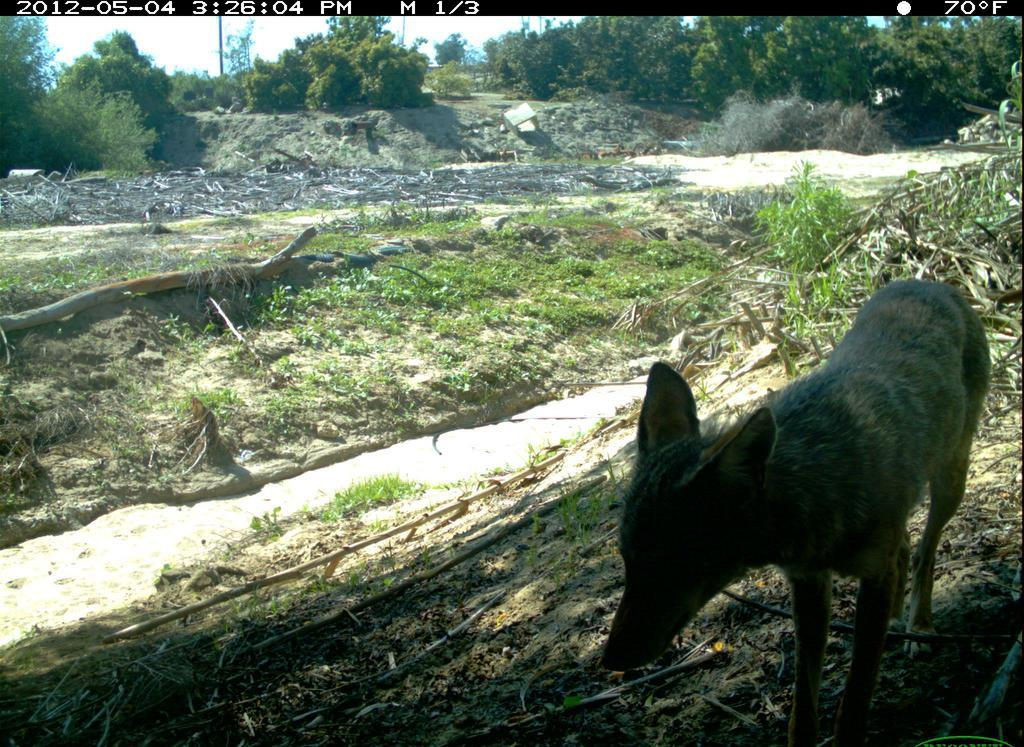coyote: (598, 276, 996, 747)
